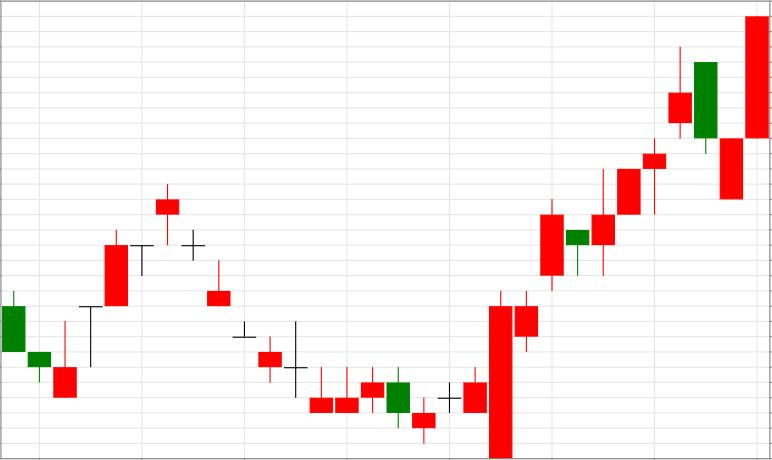shooting_star_fall: (463, 48, 691, 458)
